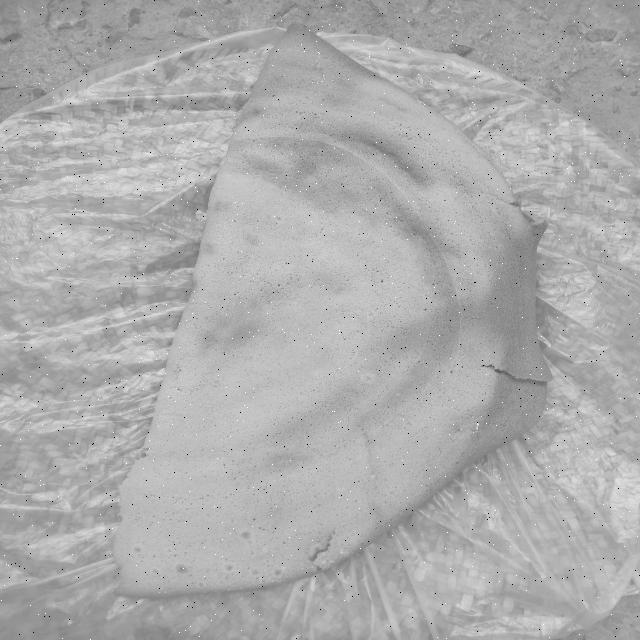injera_mold: (249, 576, 273, 590), (319, 558, 334, 571), (174, 562, 190, 573), (220, 586, 247, 592), (311, 546, 324, 558), (361, 374, 376, 383), (336, 549, 352, 557), (241, 530, 252, 540), (415, 98, 426, 108), (302, 566, 314, 574), (132, 545, 142, 554), (223, 564, 234, 572), (273, 568, 284, 576), (274, 215, 284, 222), (151, 568, 160, 574), (251, 569, 259, 575), (475, 422, 480, 431), (197, 582, 204, 588), (167, 548, 173, 553), (248, 540, 255, 544), (201, 591, 210, 594), (321, 78, 326, 83), (471, 416, 477, 420), (321, 74, 327, 78), (459, 428, 464, 432), (310, 81, 314, 84), (316, 65, 320, 68), (164, 591, 167, 594), (459, 419, 462, 422), (160, 588, 164, 590), (480, 416, 483, 418), (316, 82, 318, 85), (331, 80, 334, 82), (158, 592, 160, 594), (332, 75, 334, 77)
